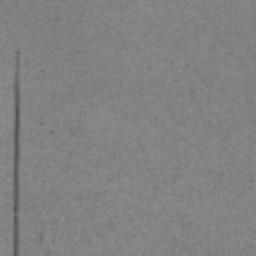Scratches: (13, 51, 20, 256)
